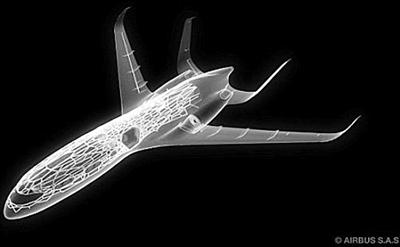airplane: (5, 14, 359, 223)
